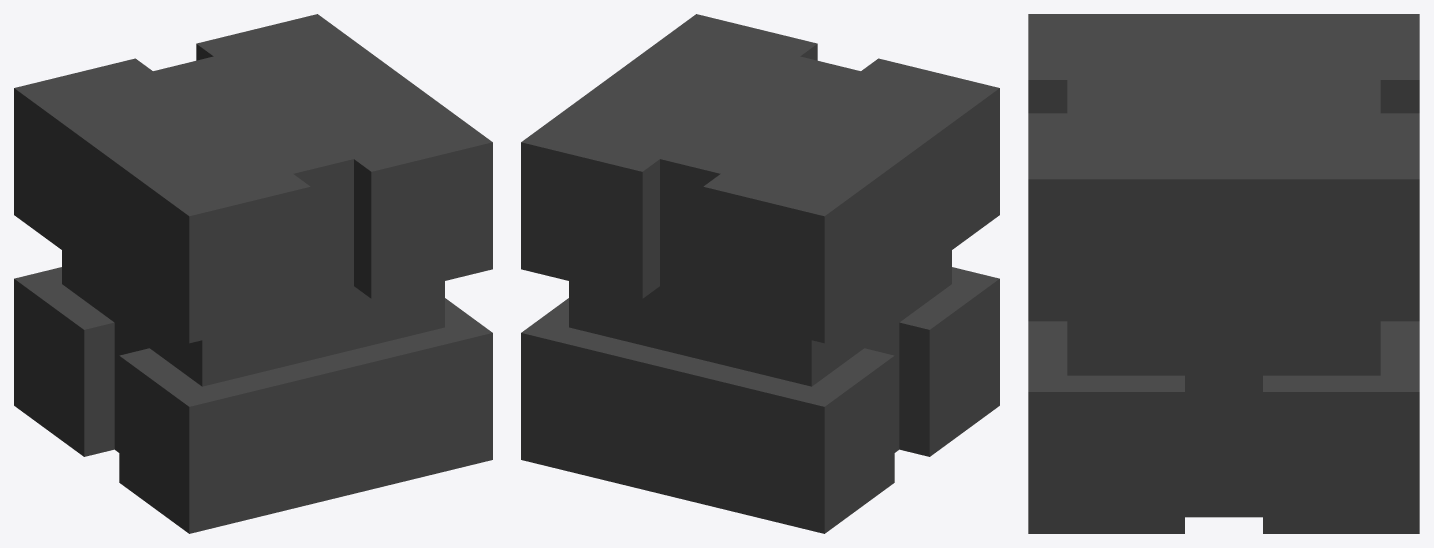
File: bestBrick.obj
3 renders of one model, left to right at view 1: azimuth 30°, elevation 25°; view 2: azimuth 150°, elevation 25°; view 3: azimuth 270°, elevation 25°, orthographic. The views are drawn at different scales.
Size of the model in its own units: 1 by 1 by 1.
